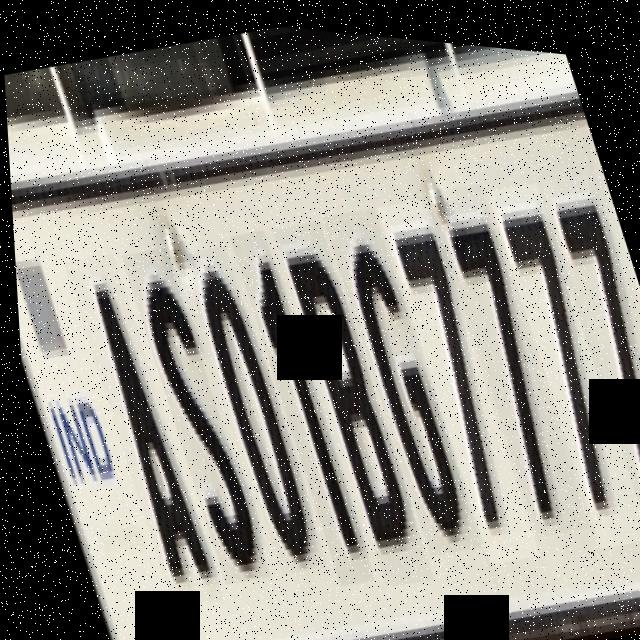0: (176, 238, 322, 572)
1: (226, 222, 368, 582)
7: (374, 186, 534, 558), (485, 168, 640, 540), (425, 170, 584, 531), (539, 158, 640, 516)
A: (59, 247, 217, 609)
B: (269, 210, 428, 584)
G: (319, 197, 476, 551)
S: (117, 241, 264, 583)
